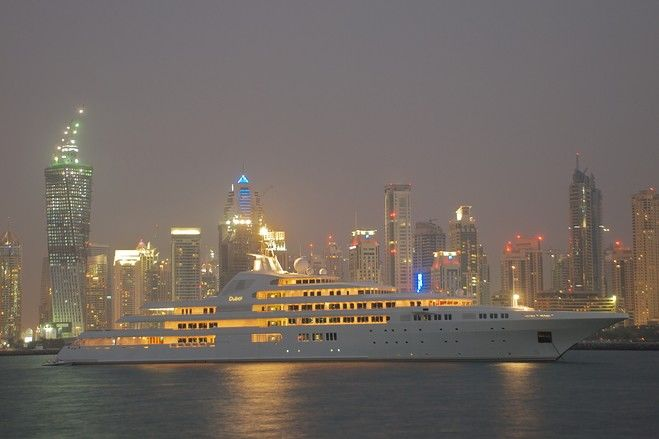yacht: (48, 262, 630, 373)
